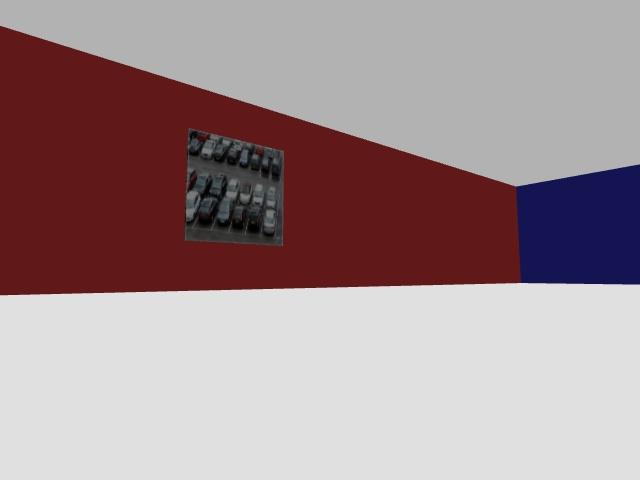vehicle: (197, 197, 218, 222), (216, 197, 234, 224), (193, 173, 212, 198), (209, 173, 227, 198), (186, 190, 200, 221), (262, 209, 277, 235), (247, 205, 261, 230), (231, 205, 246, 227), (239, 182, 253, 205), (225, 178, 239, 201), (200, 139, 215, 159), (252, 184, 264, 206), (213, 142, 227, 160), (265, 187, 276, 209), (186, 168, 197, 190), (226, 145, 239, 163), (188, 138, 202, 154), (271, 157, 281, 177), (239, 149, 249, 168), (261, 155, 270, 174), (250, 153, 260, 169), (208, 134, 222, 144), (197, 131, 209, 142), (244, 143, 254, 154), (233, 140, 243, 150), (254, 145, 264, 155), (188, 129, 197, 140), (222, 139, 232, 148), (264, 148, 273, 158), (272, 149, 280, 158)
